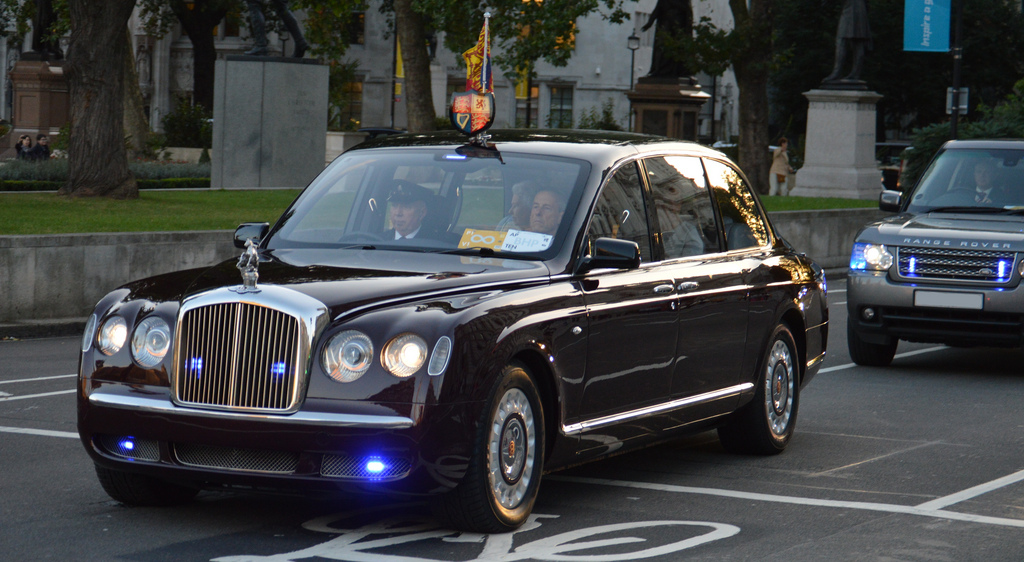car: (52, 127, 837, 525), (843, 134, 1022, 369)
